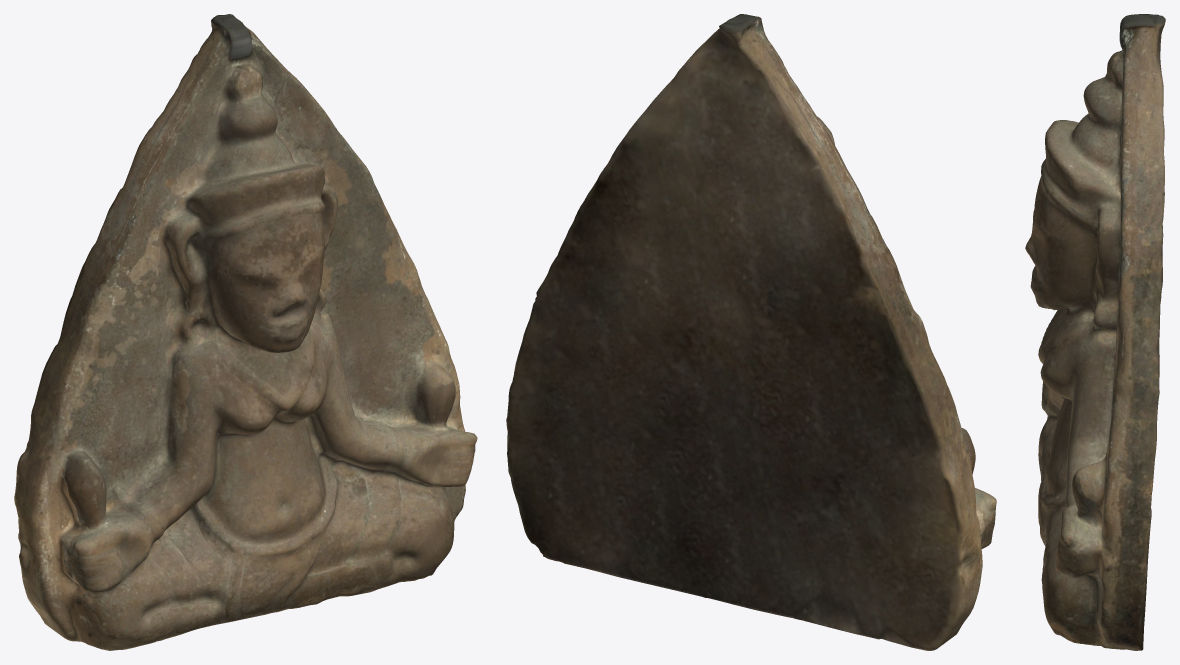
File: 29_laskmi_final.glb
3 renders of one model, left to right at view 1: azimuth 30°, elevation 25°; view 2: azimuth 150°, elevation 25°; view 3: azimuth 270°, elevation 25°, orthographic. The views are drawn at different scales.
Size of the model in its own units: 0.288 by 0.3543 by 0.0829.
1 material, 1 textured.
